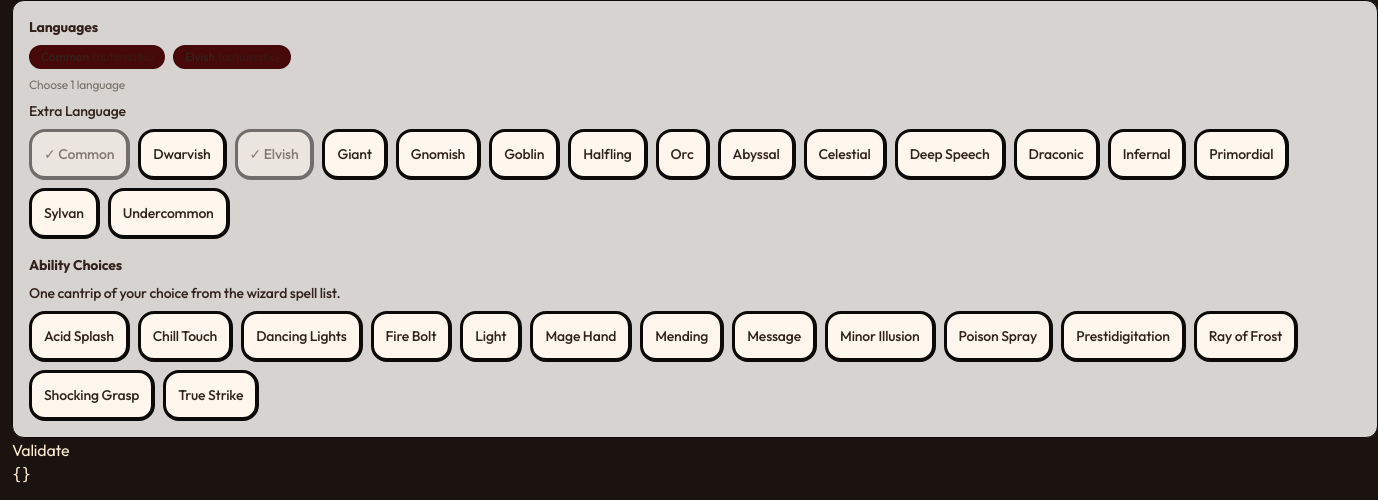
Test case: CharacterGrantPickers › stores language picks in choices.grantPicks
Click the button "Draconic": (1057, 154) [1014,129,1100,180]
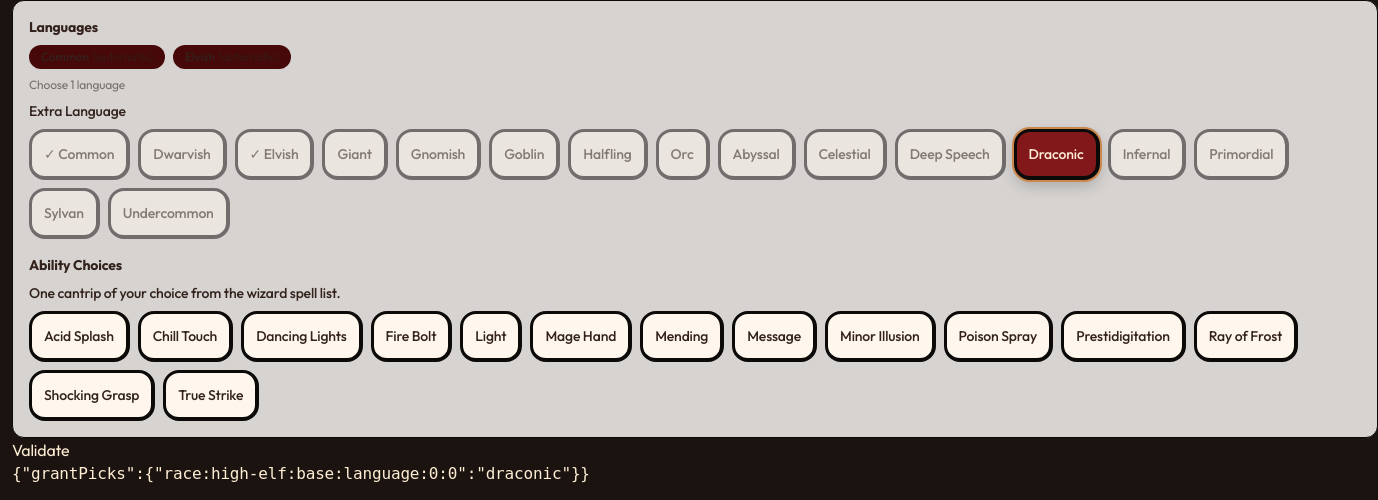
Result: the text with test id "choices-output" shows "draconic" at [12,464,590,483]
